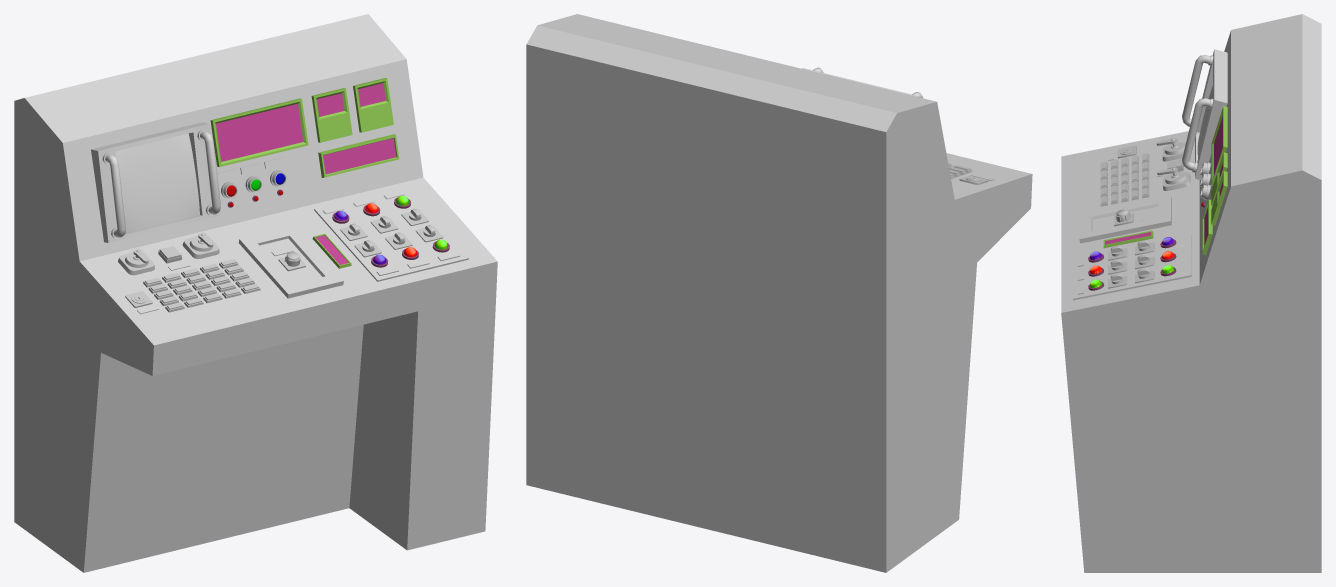
File: CTRL_L_v3.fbx
3 renders of one model, left to right at view 1: azimuth 30°, elevation 25°; view 2: azimuth 150°, elevation 25°; view 3: azimuth 270°, elevation 25°, orthographic. The views are drawn at different scales.
Visible parts, largest first — view 1: CTRL_Main_l, CTRL_CRT-in_l, CTRL_Plate02_l, CP_Sqr_Gauge_01_l, CTRL_CRT-out_l, CTRL_Plate01_l, CP_Rect_Gauge_01_l, CP_Array_1b_l, CTRL_Handle_l, CP_Sqr_Gauge_02c_l, CP_Sqr_Gauge_02b_l, CP_Array_1a_l (+4 smaller); view 2: CTRL_Main_l; view 3: CTRL_Main_l, CTRL_Plate02_l, CTRL_Plate01_l, CTRL_CRT-out_l, CTRL_Handle_l, CP_Array_1b_l, CP_Array_1a_l, CP_Light03_l, CP_Sqr_Gauge_01_l, CB_Plated02a_l, CB_Plated02b_l, CTRL_Paper_l (+5 smaller).
Boxes of the visible parts, box(x1,y1,x2,y2) form: CTRL_Main_l: box(14, 14, 497, 572); CTRL_CRT-in_l: box(115, 133, 199, 233); CTRL_Plate02_l: box(314, 186, 469, 281); CP_Sqr_Gauge_01_l: box(210, 98, 308, 166); CTRL_CRT-out_l: box(91, 122, 219, 242); CTRL_Plate01_l: box(238, 225, 343, 298); CP_Rect_Gauge_01_l: box(318, 134, 399, 177); CP_Array_1b_l: box(145, 259, 258, 309); CTRL_Handle_l: box(102, 130, 220, 238); CP_Sqr_Gauge_02c_l: box(311, 88, 352, 142); CP_Sqr_Gauge_02b_l: box(353, 78, 393, 132); CP_Array_1a_l: box(143, 262, 260, 312); CTRL_Main_l: box(526, 14, 1032, 572); CTRL_Main_l: box(1061, 14, 1321, 572); CTRL_Plate02_l: box(1073, 233, 1191, 300); CTRL_Plate01_l: box(1079, 195, 1171, 243); CTRL_CRT-out_l: box(1195, 49, 1227, 180); CTRL_Handle_l: box(1182, 55, 1213, 172); CP_Array_1b_l: box(1101, 153, 1147, 203); CP_Array_1a_l: box(1100, 153, 1149, 206); CP_Light03_l: box(1088, 237, 1176, 290); CP_Sqr_Gauge_01_l: box(1211, 106, 1227, 185); CB_Plated02a_l: box(1108, 242, 1154, 288); CB_Plated02b_l: box(1110, 240, 1149, 284); CTRL_Paper_l: box(1077, 150, 1211, 294).
Bounding box in the file's own units: 100 × 120 × 70.41.
